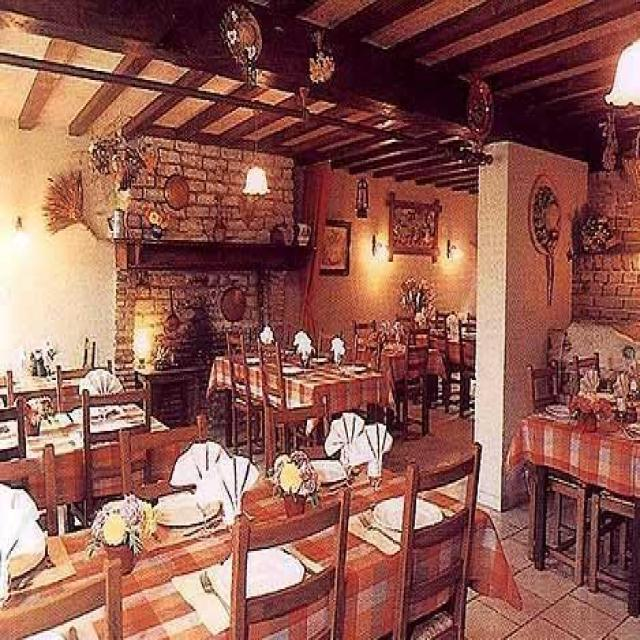lamps: (603, 36, 639, 108), (241, 107, 269, 195)
plants: (85, 492, 158, 564)
pots: (107, 207, 124, 238)
sofa: (544, 316, 638, 396)
table: (508, 393, 638, 616)
windows: (388, 193, 440, 256), (318, 218, 351, 275)
